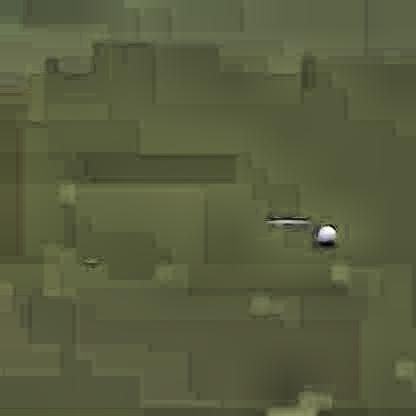golfball: (314, 222, 334, 244)
